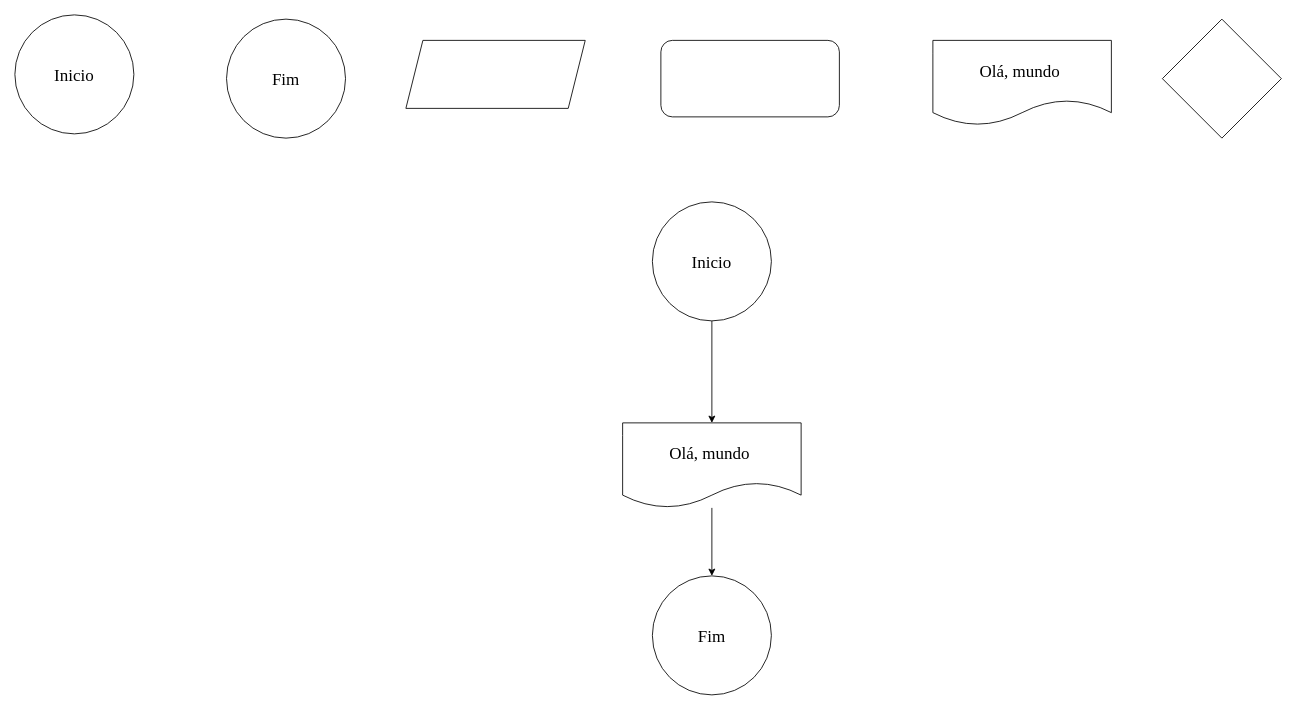
Some shapes in this 1296 by 710 pixel diagram are drawn without their labels. Here are the shapes that lost their labels. From the top down, the centre of each, then its label:
At (495,74): "Entrada de dados".
At (749,78): "Procedimento".
At (1221,78): "Decisão".
